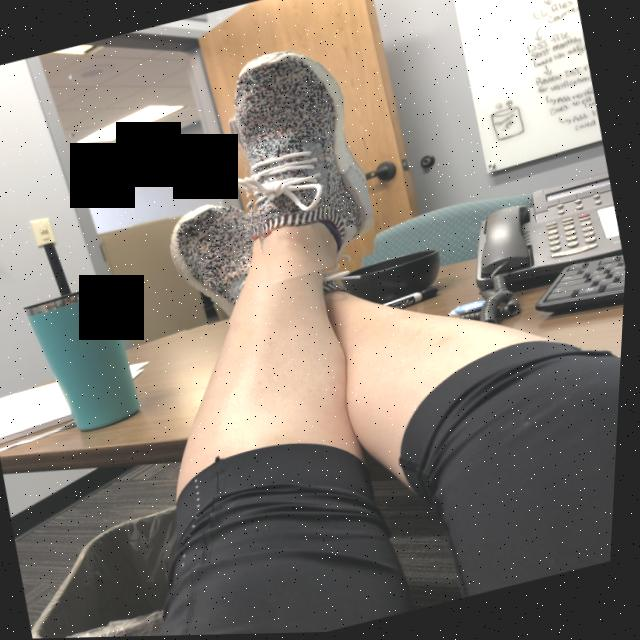shoe: (209, 30, 392, 289), (151, 179, 260, 338)
